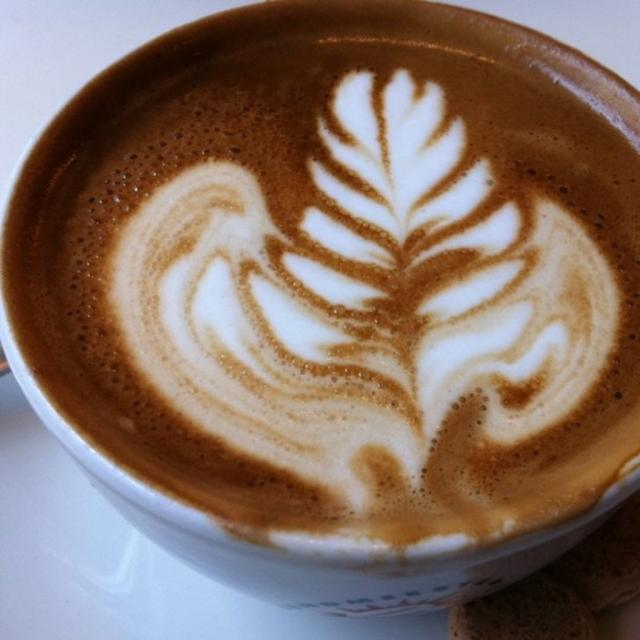Coffee: (0, 0, 639, 542)
